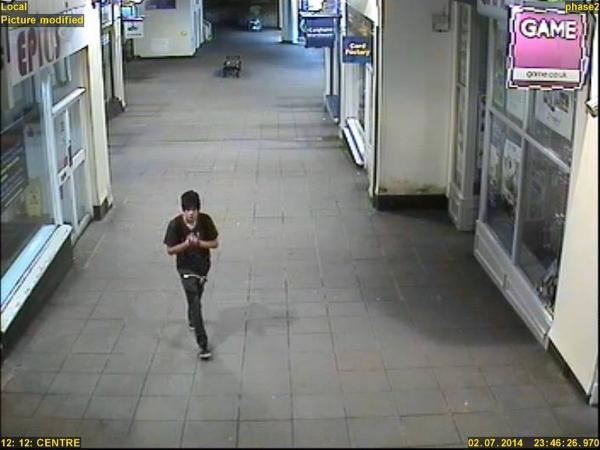person: (150, 165, 225, 374)
